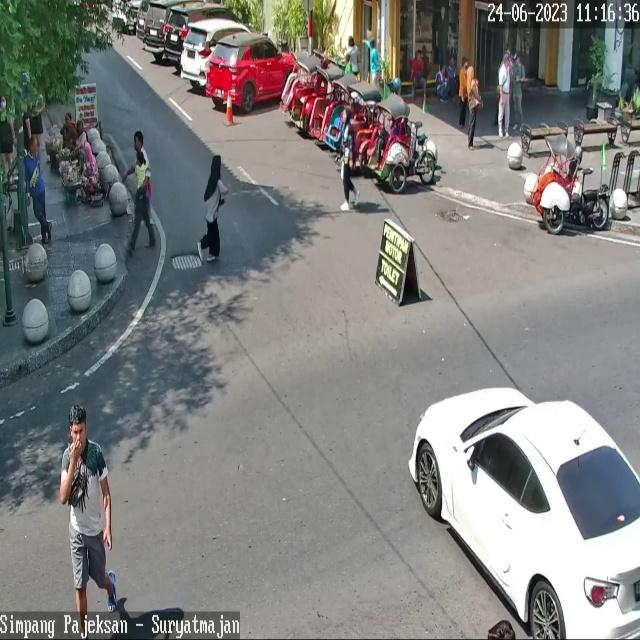motorcycle: (407, 387, 640, 639), (206, 33, 300, 111), (163, 4, 246, 64), (181, 21, 252, 87), (143, 0, 169, 53)
